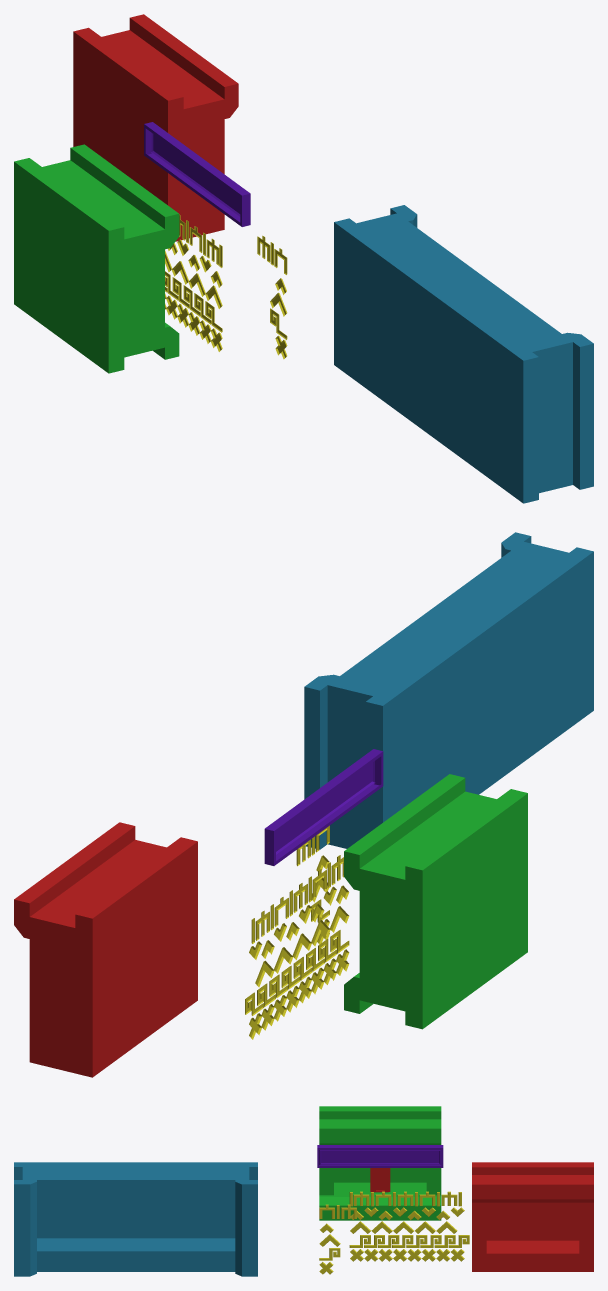
Rendered from TempleGEO.fbx.
3 renders of one model, top to bottom at view 1: azimuth 30°, elevation 25°; view 2: azimuth 150°, elevation 25°; view 3: azimuth 270°, elevation 25°, orthographic. The views are drawn at different scales.
Parts seen in each view (by area): view 1: BuildTemple03, BuildTemple02, BuildTemple01, EBuildBaseLine01, EBuildBaseLine02, EBGraphLine01, EBuild-Line01, EBGraphLine02, EBuildLine02; view 2: BuildTemple03, BuildTemple01, BuildTemple02, EBuildBaseLine01, EBuildBaseLine02, EBGraphLine01, EBGraphLine02, EBuild-Line01, EBuildLine02, EBuildLine03; view 3: BuildTemple03, BuildTemple01, BuildTemple02, EBuildBaseLine02, EBGraphLine01, EBuildBaseLine01, EBGraphLine02, EBuild-Line01, EBuildLine02, EBuildLine03, EBGraph02, BuildColumnTemple01.
Boxes of the visible parts, <box> form: BuildTemple03: <box>334,205,593,503</box>; BuildTemple02: <box>14,144,179,373</box>; BuildTemple01: <box>73,14,238,241</box>; EBuildBaseLine01: <box>144,122,250,226</box>; EBuildBaseLine02: <box>150,132,240,217</box>; EBGraphLine01: <box>165,271,222,332</box>; EBuild-Line01: <box>165,293,222,351</box>; EBGraphLine02: <box>179,214,222,267</box>; EBuildLine02: <box>165,250,222,308</box>; BuildTemple03: <box>304,532,593,849</box>; BuildTemple01: <box>14,822,197,1077</box>; BuildTemple02: <box>344,774,527,1029</box>; EBuildBaseLine01: <box>264,749,383,865</box>; EBuildBaseLine02: <box>276,760,375,855</box>; EBGraphLine01: <box>245,930,349,1015</box>; EBGraphLine02: <box>251,855,343,943</box>; EBuild-Line01: <box>249,949,349,1039</box>; EBuildLine02: <box>255,906,349,987</box>; EBuildLine03: <box>249,885,349,959</box>; BuildTemple03: <box>14,1162,257,1276</box>; BuildTemple01: <box>472,1162,593,1271</box>; BuildTemple02: <box>319,1106,441,1220</box>; EBuildBaseLine02: <box>319,1150,441,1165</box>; EBGraphLine01: <box>349,1235,469,1247</box>; EBuildBaseLine01: <box>317,1145,443,1167</box>; EBGraphLine02: <box>349,1191,461,1206</box>; EBuild-Line01: <box>350,1249,464,1261</box>; EBuildLine02: <box>350,1221,457,1233</box>; EBuildLine03: <box>350,1207,464,1219</box>; EBGraph02: <box>319,1204,356,1218</box>; BuildColumnTemple01: <box>370,1168,390,1192</box>.
Size of the model in its own units: 1815 by 1248 by 5700.
